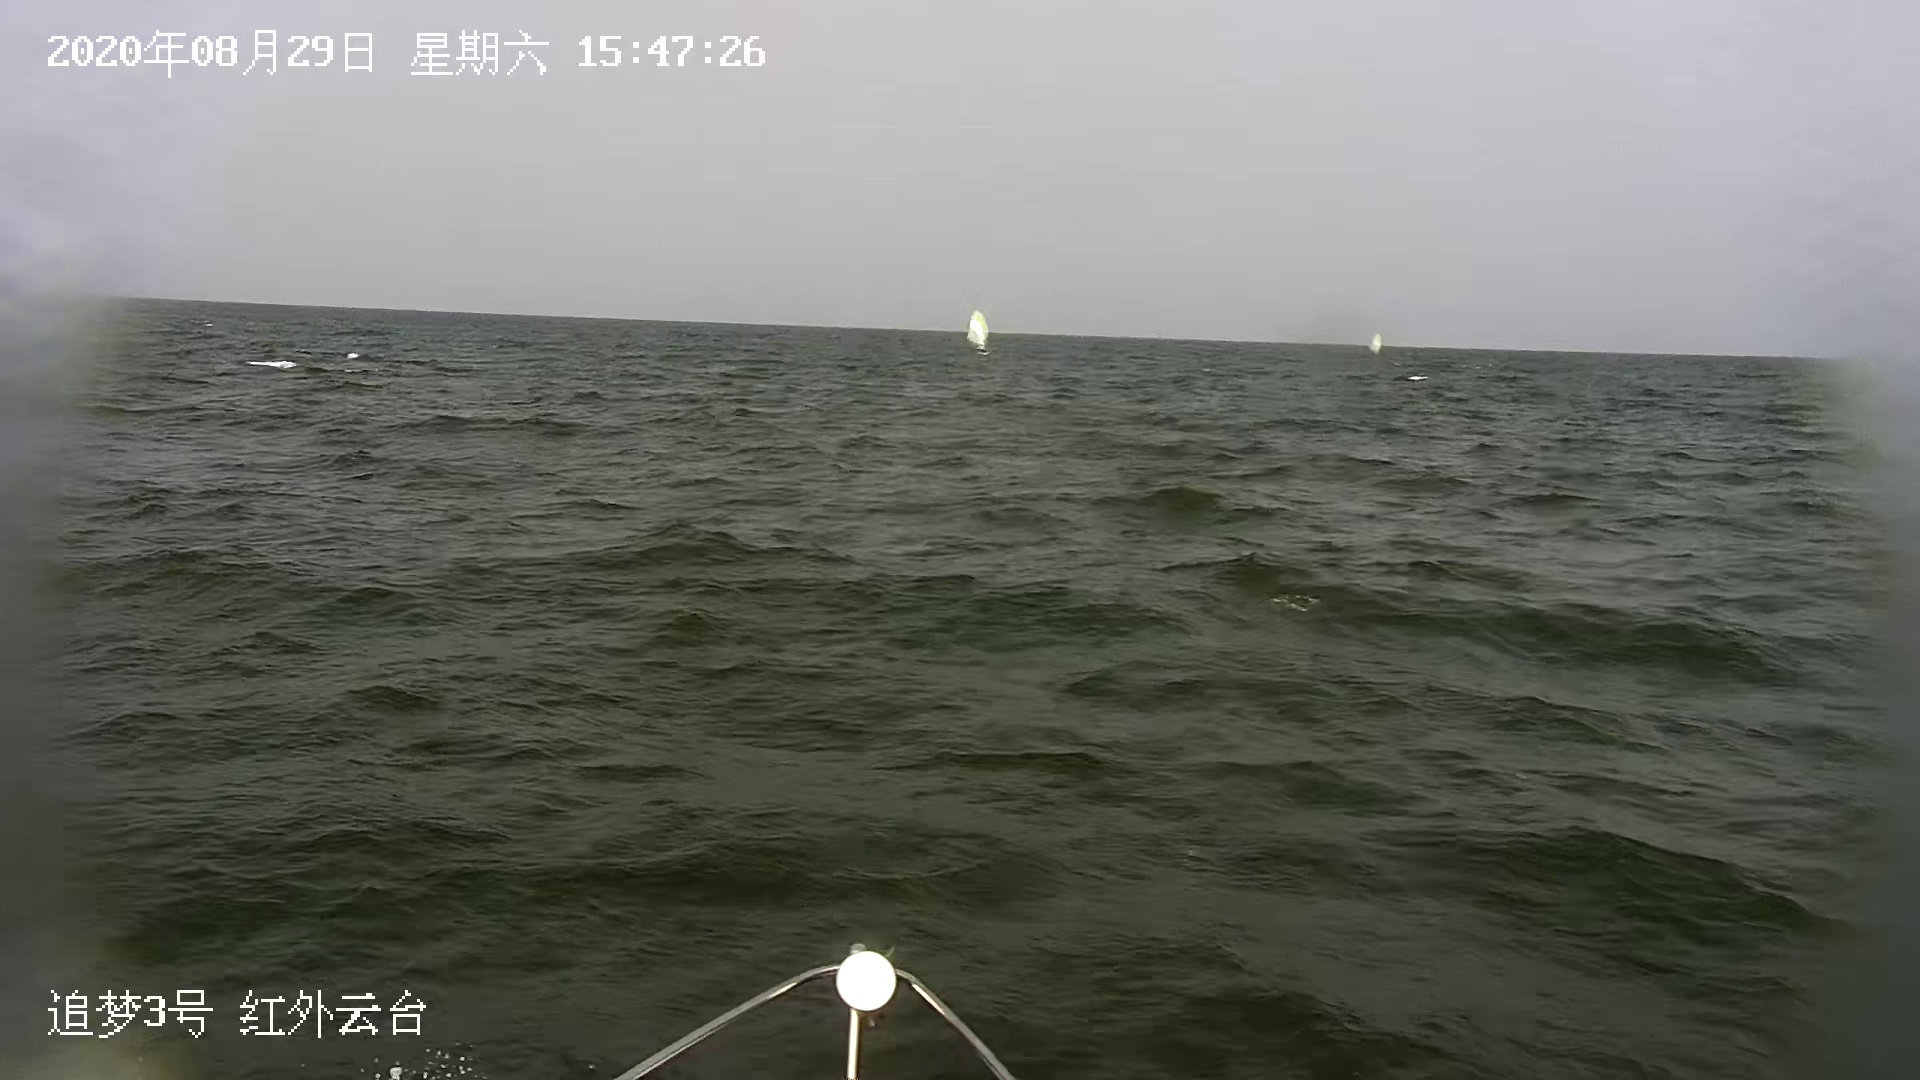barrier: (969, 309, 996, 359), (1371, 336, 1385, 356)
